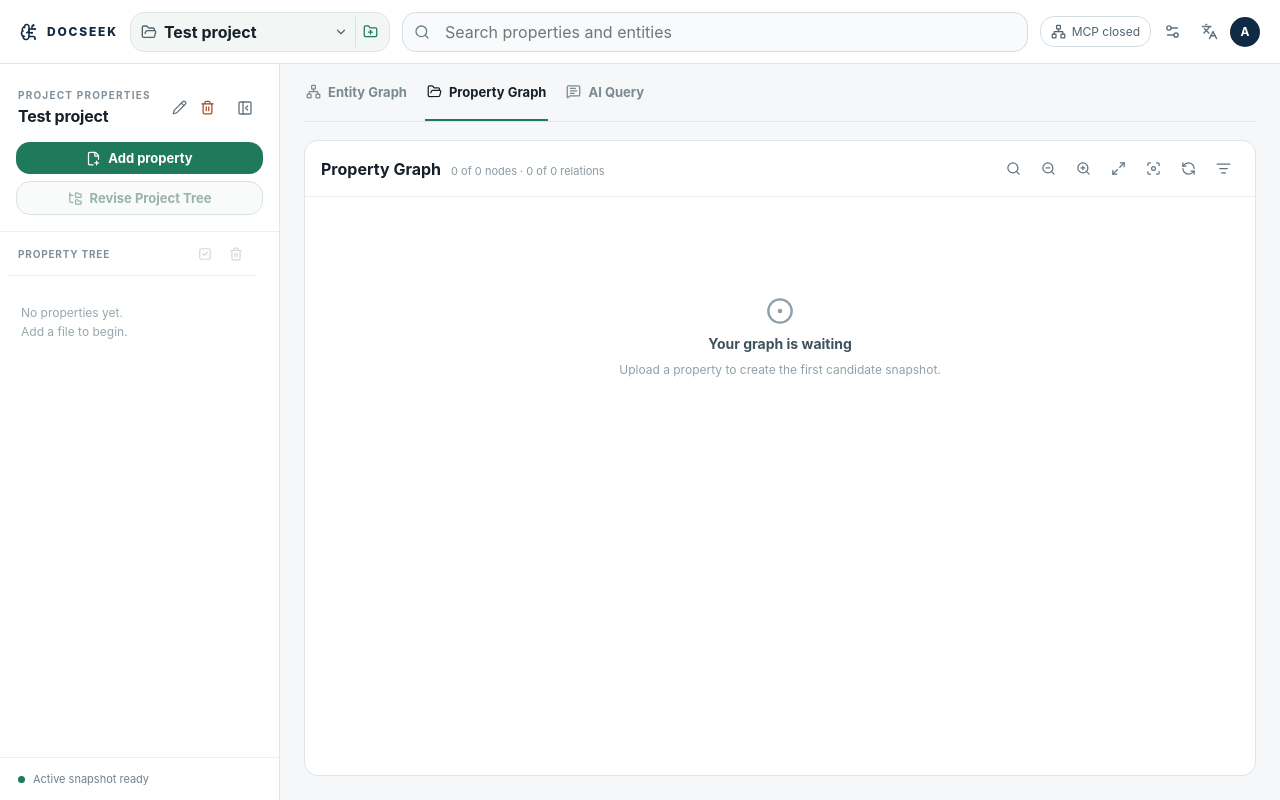
Test case: ProjectShell import provider readiness › blocks file selection and opens provider settings when an import route is missing
This screenshot has width=1280, height=800.
Click the button "Add property" at (140, 158), box [16,142,263,174]
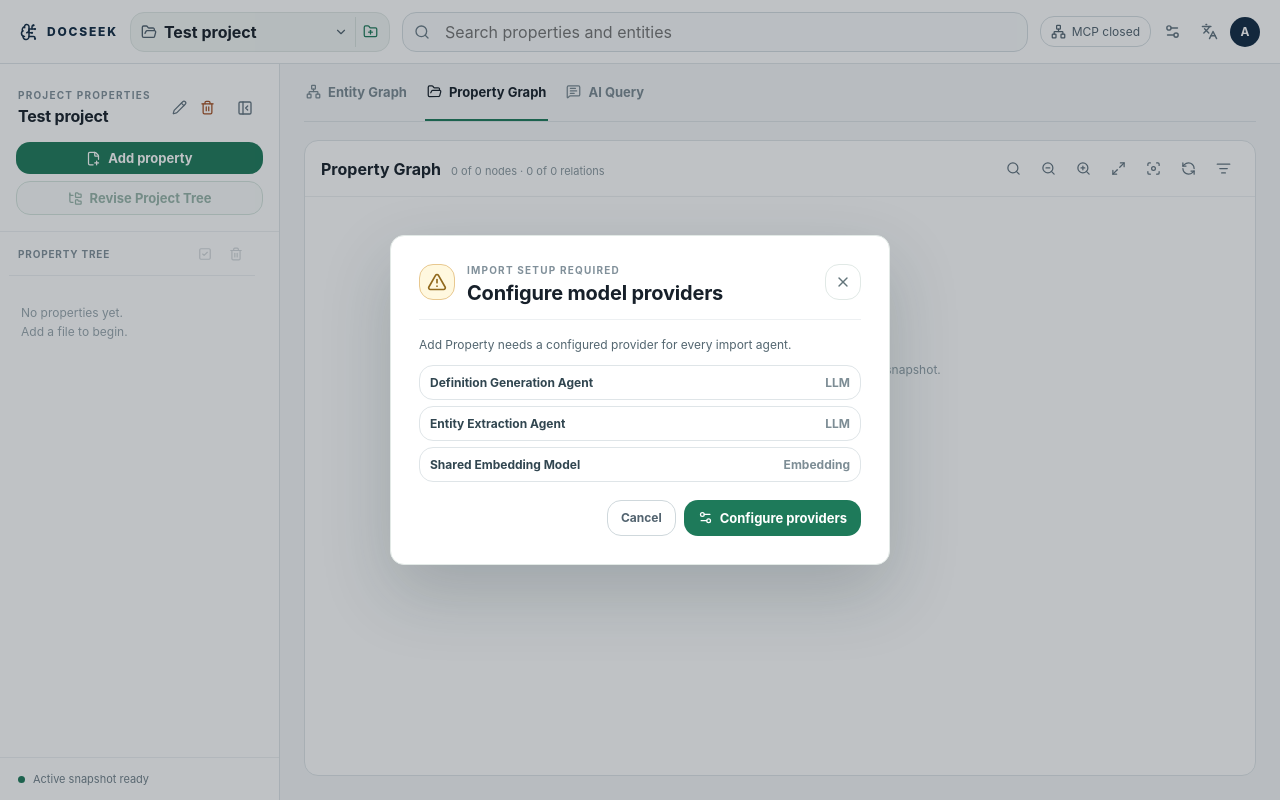
Now the dialog named "Model providers required" is shown, box [390,235,890,565]
Now the text "Definition Generation Agent" is shown, box [430,375,593,390]
Now the text "Entity Extraction Agent" is shown, box [430,416,565,431]
Click the button "Configure providers" at (772, 518), box [684,500,861,536]
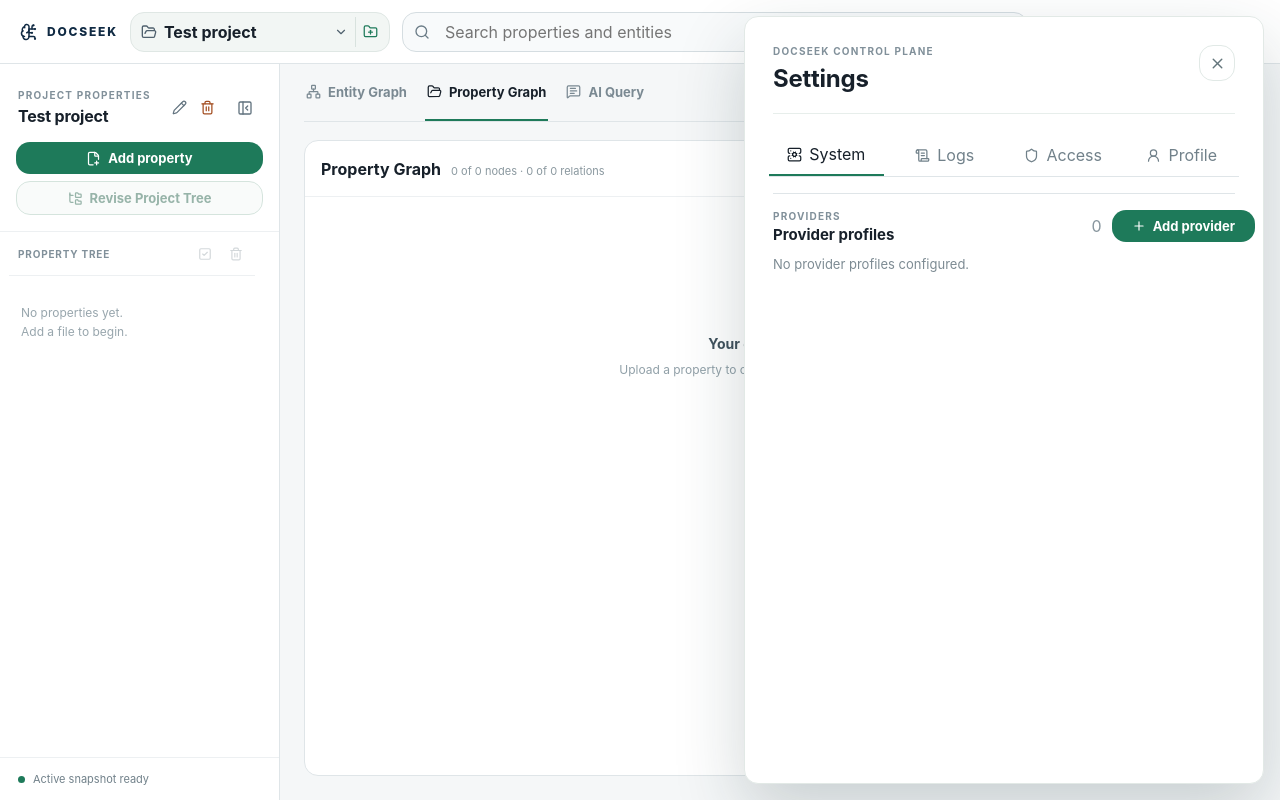
Now the dialog "Settings" is shown, box [744,16,1264,784]
